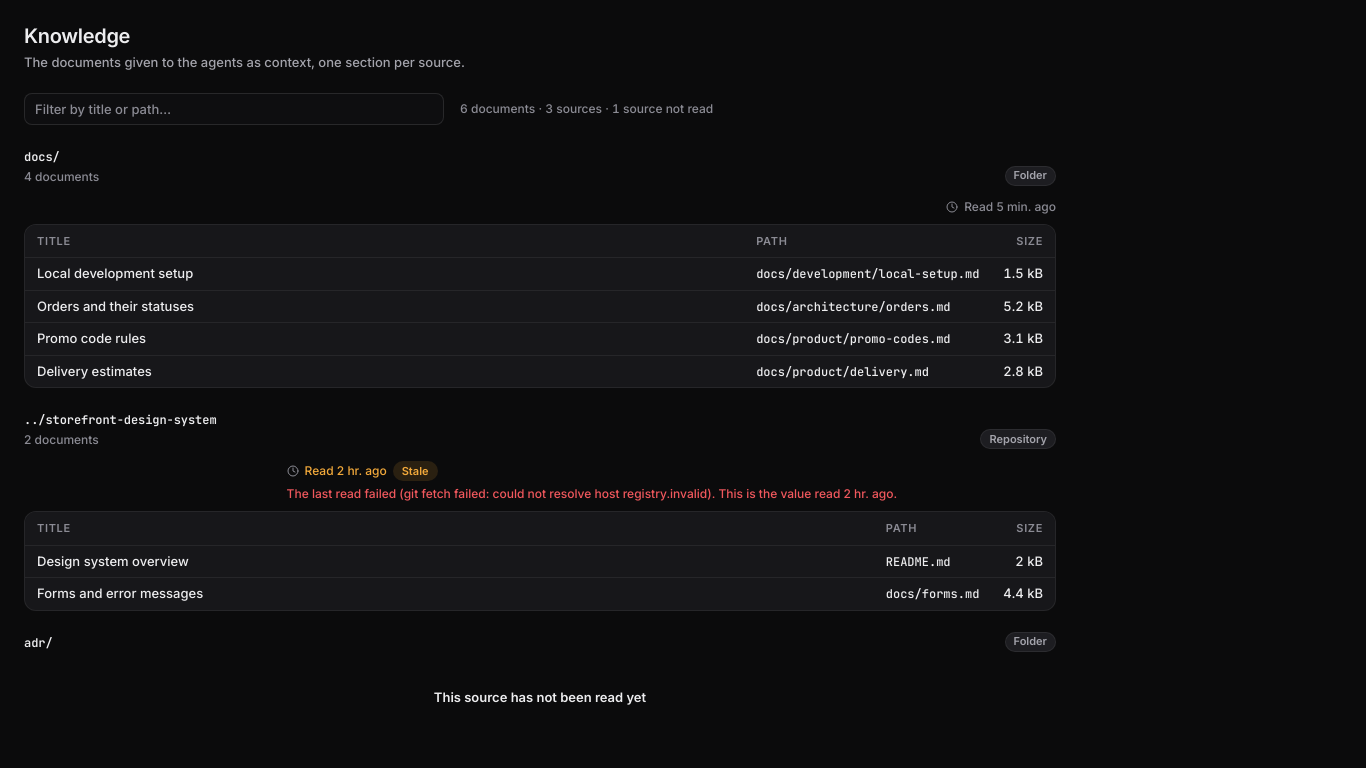
Scenario: KnowledgeView filter › says how many of the documents match, in the page and in each source
Expected: the heading "Knowledge" is shown, [24,24,130,48]
Type "promo" into the search field named "Filter the documents" at (234, 108), box [24,92,444,124]
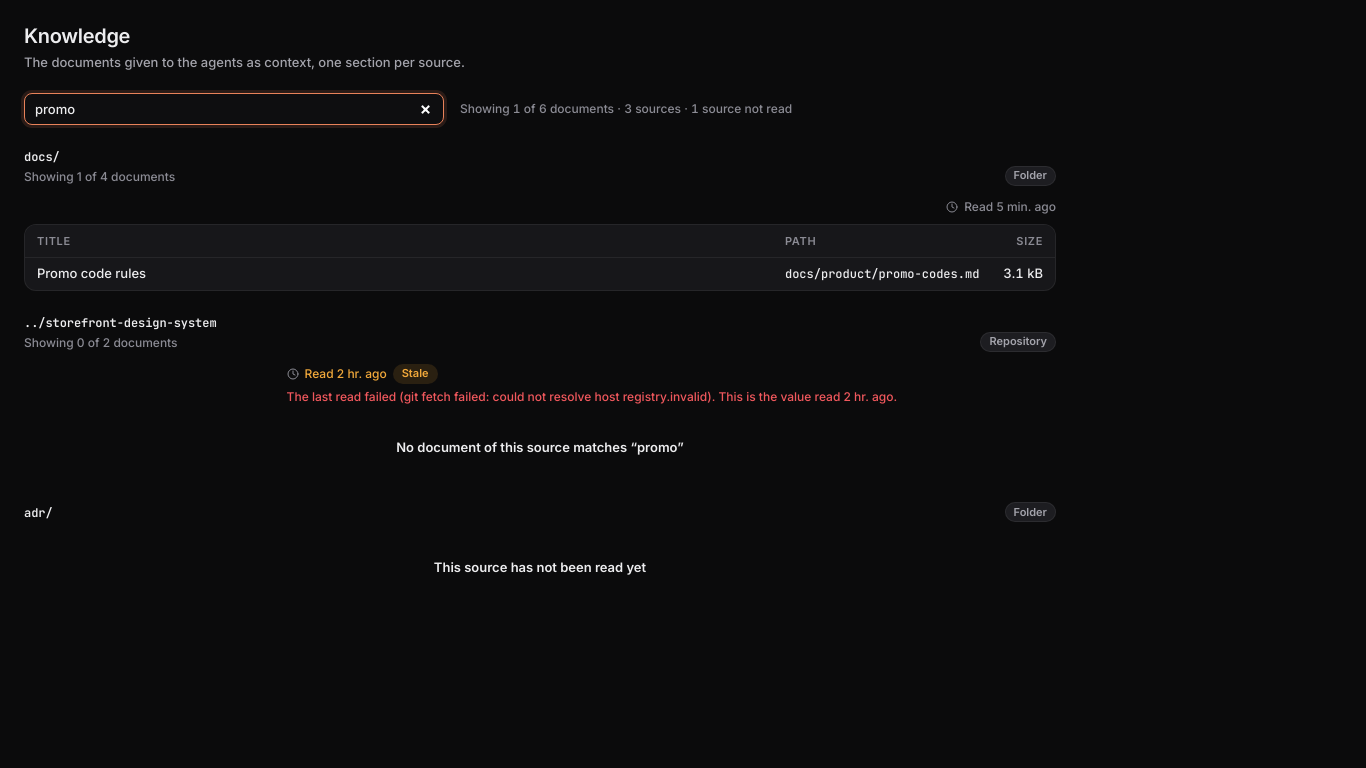
Result: the text "Showing 1 of 6 documents · 3 sources · 1 source not read" is shown at [460,100,792,118]
Result: the text "Showing 1 of 4 documents" is shown at [24,168,175,186]
